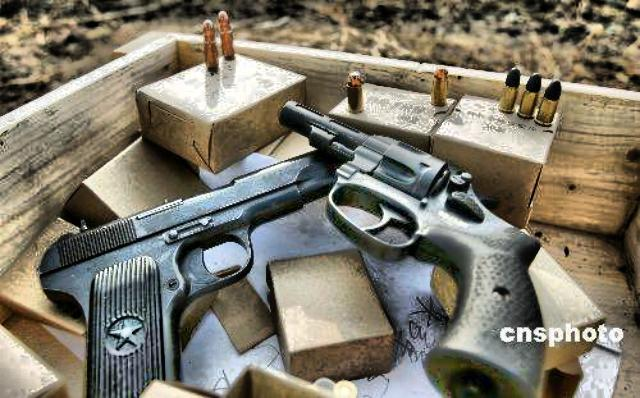pistol: (35, 139, 355, 397), (275, 96, 545, 396)
